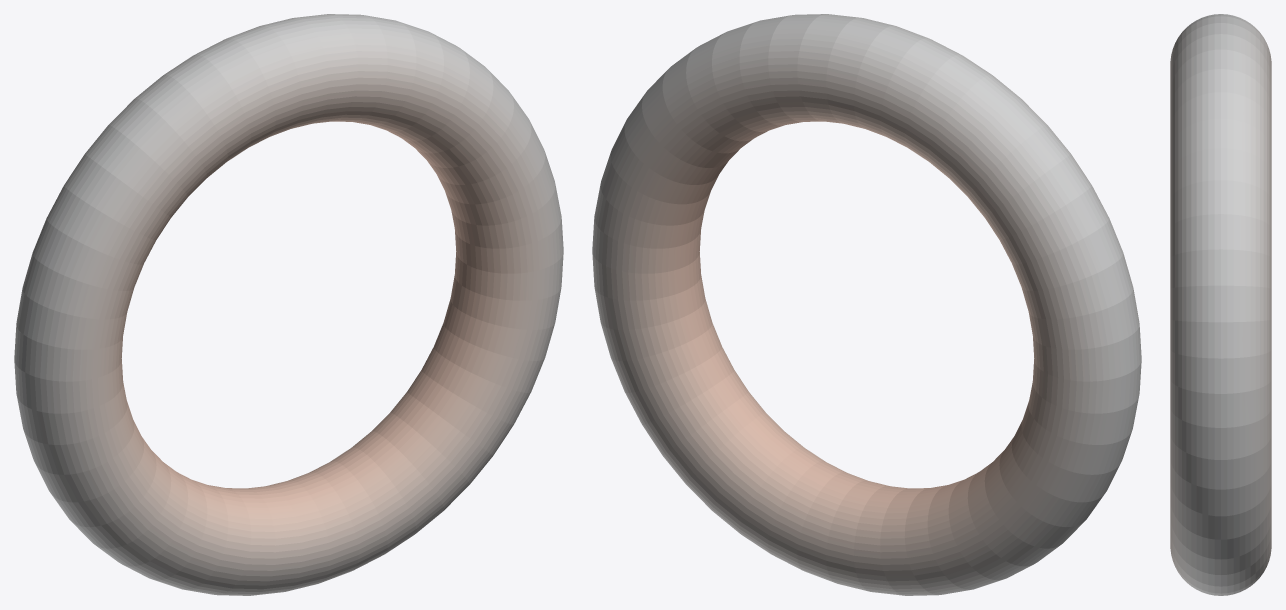
3 renders of one model, left to right at view 1: azimuth 30°, elevation 25°; view 2: azimuth 150°, elevation 25°; view 3: azimuth 270°, elevation 25°, orthographic. The views are drawn at different scales.
Parts seen in each view (by area): view 1: world; view 2: world; view 3: world.
Part boxes in pixels (x1,y1,x2,y2): world: (14, 14, 563, 595); world: (592, 14, 1141, 595); world: (1170, 14, 1271, 595).
Size of the model in its own units: 29.87 by 29.81 by 5.19.
